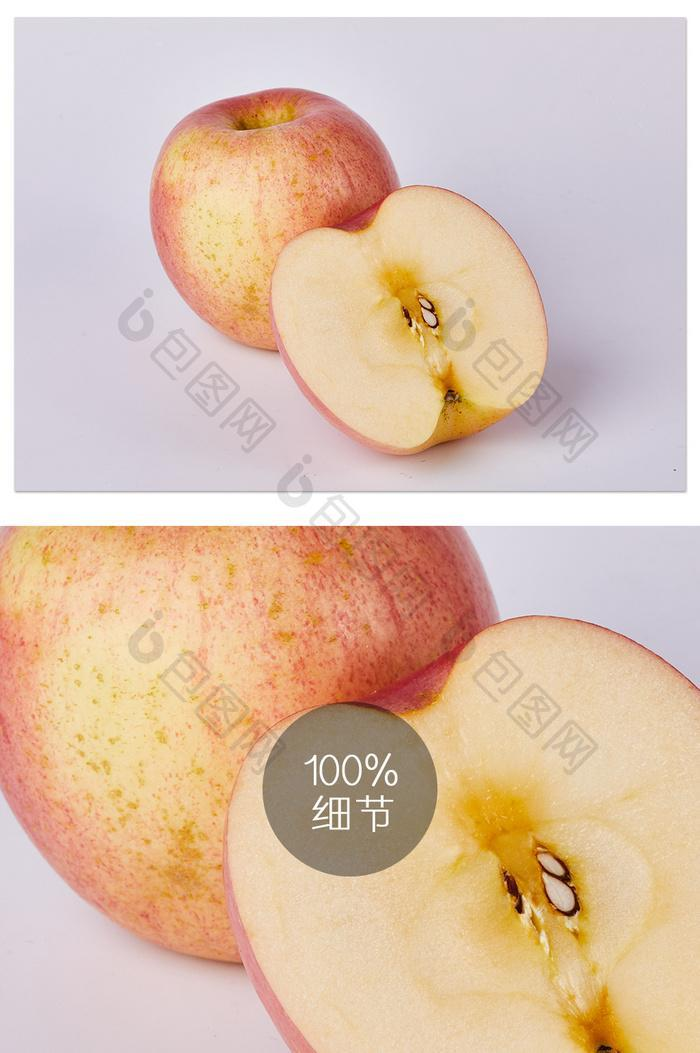apple: (1, 525, 496, 962), (217, 618, 700, 1051), (272, 184, 549, 456), (152, 81, 399, 347)
